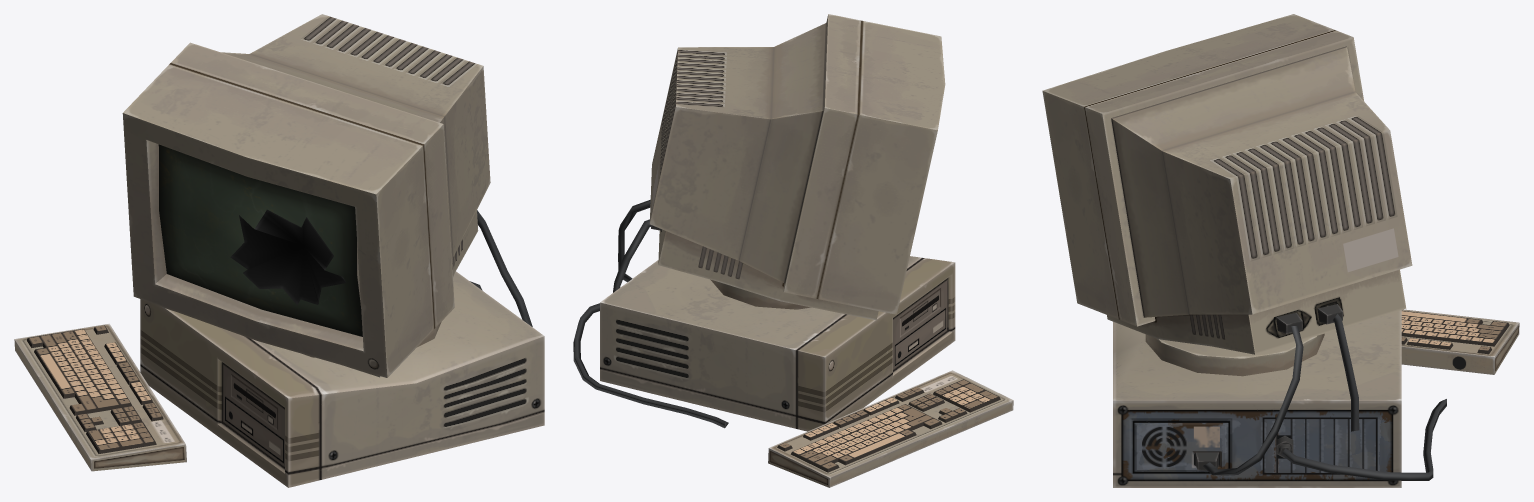
File: computer01_B.FBX
3 views of the same model, side by side, from view 1: azimuth 30°, elevation 25°; view 2: azimuth 150°, elevation 25°; view 3: azimuth 270°, elevation 25° (orthographic). The views are drawn at different scales.
Visible parts, largest first — view 1: computer01_B; view 2: computer01_B; view 3: computer01_B.
Boxes of the visible parts, x1,y1,x2,y2 form: computer01_B: (14, 14, 544, 487); computer01_B: (573, 14, 1013, 487); computer01_B: (1042, 14, 1519, 487).
Size of the model in its own units: 77.43 by 58.71 by 74.36.
